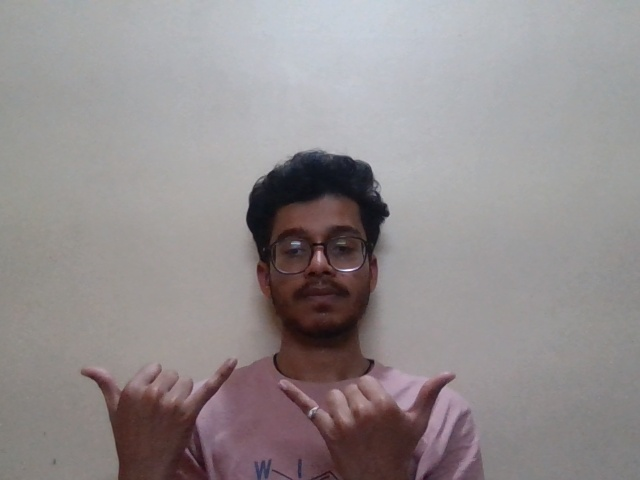today: (76, 354, 464, 455)
